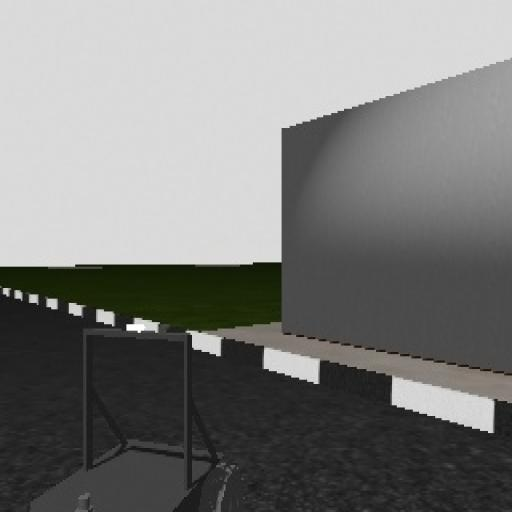huskya200: (25, 317, 248, 512)
